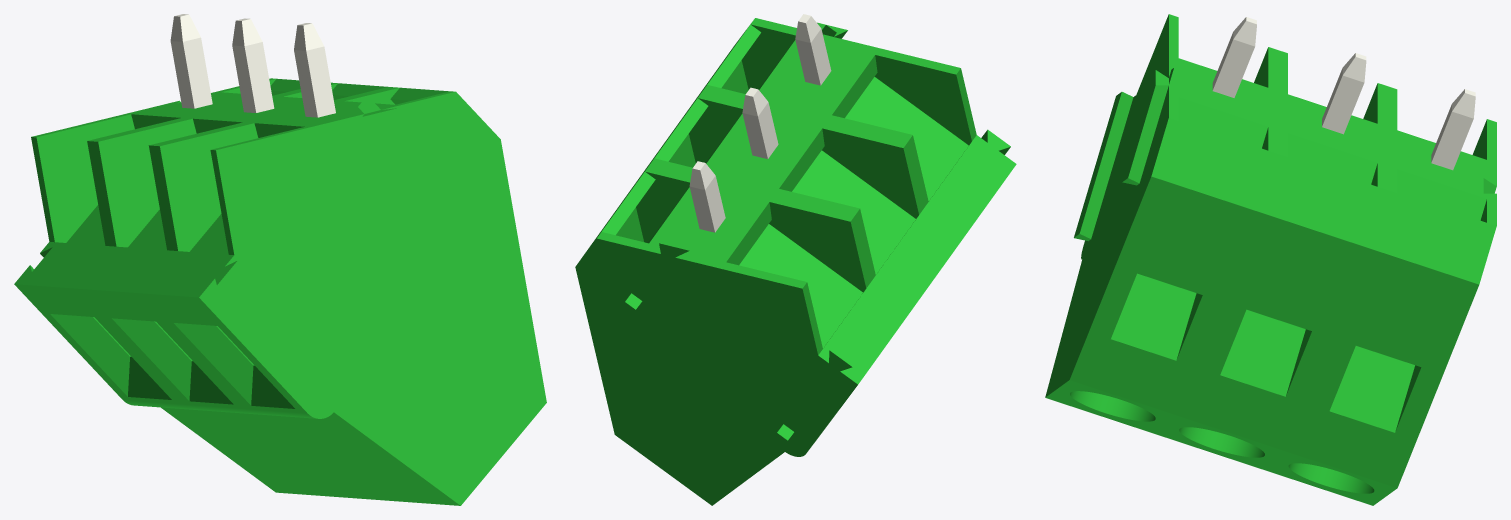
Rendered from EBoxNewAsm_stp_1_UTeensyBreakout_1_stp_1_EK500A_03P_stp_8_solid1.obj.
3 renders of one model, left to right at view 1: azimuth 30°, elevation 25°; view 2: azimuth 150°, elevation 25°; view 3: azimuth 270°, elevation 25°, orthographic. The views are drawn at different scales.
Visible parts, largest first — view 1: mesh14884, mesh14862, mesh14993, mesh14920, mesh14911, mesh14918, mesh14949, mesh14904, mesh14894, mesh14887, mesh14997, mesh15006 (+18 smaller); view 2: mesh14925, mesh14949, mesh14920, mesh14909, mesh14917, mesh14903, mesh14899, mesh14913, mesh14906, mesh14933, mesh14945, mesh14939 (+19 smaller); view 3: mesh14977, mesh14930, mesh14949, mesh14884, mesh14861, mesh14988, mesh14978, mesh14983, mesh14942, mesh14935, mesh14947, mesh14891 (+9 smaller).
Part boxes in pixels (left/top/right/bottom): mesh14884: left=199, top=92, right=546, bottom=505; mesh14862: left=161, top=407, right=460, bottom=505; mesh14993: left=14, top=284, right=306, bottom=413; mesh14920: left=14, top=242, right=236, bottom=297; mesh14911: left=98, top=118, right=196, bottom=247; mesh14918: left=36, top=114, right=134, bottom=242; mesh14949: left=31, top=78, right=455, bottom=150; mesh14904: left=160, top=123, right=258, bottom=251; mesh14894: left=217, top=260, right=345, bottom=400; mesh14887: left=363, top=108, right=468, bottom=208; mesh14997: left=174, top=323, right=253, bottom=405; mesh15006: left=112, top=318, right=191, bottom=400; mesh14925: left=575, top=238, right=857, bottom=505; mesh14949: left=597, top=18, right=960, bottom=288; mesh14920: left=818, top=130, right=1016, bottom=384; mesh14909: left=792, top=150, right=915, bottom=274; mesh14917: left=739, top=224, right=862, bottom=348; mesh14903: left=845, top=77, right=968, bottom=200; mesh14899: left=874, top=55, right=971, bottom=145; mesh14913: left=769, top=202, right=866, bottom=292; mesh14906: left=822, top=128, right=918, bottom=218; mesh14933: left=636, top=171, right=689, bottom=242; mesh14945: left=689, top=98, right=742, bottom=162; mesh14939: left=741, top=24, right=795, bottom=89; mesh14977: left=1070, top=176, right=1478, bottom=487; mesh14930: left=1151, top=118, right=1496, bottom=284; mesh14949: left=1169, top=14, right=1496, bottom=225; mesh14884: left=1045, top=14, right=1168, bottom=397; mesh14861: left=1045, top=380, right=1397, bottom=505; mesh14988: left=1329, top=346, right=1414, bottom=432; mesh14978: left=1111, top=273, right=1196, bottom=360; mesh14983: left=1220, top=309, right=1305, bottom=396; mesh14942: left=1178, top=97, right=1267, bottom=148; mesh14935: left=1397, top=169, right=1486, bottom=220; mesh14947: left=1288, top=133, right=1377, bottom=184; mesh14891: left=1079, top=92, right=1133, bottom=238.
Bounding box in the file's own units: 0.0139 × 0.0223 × 0.0194.
